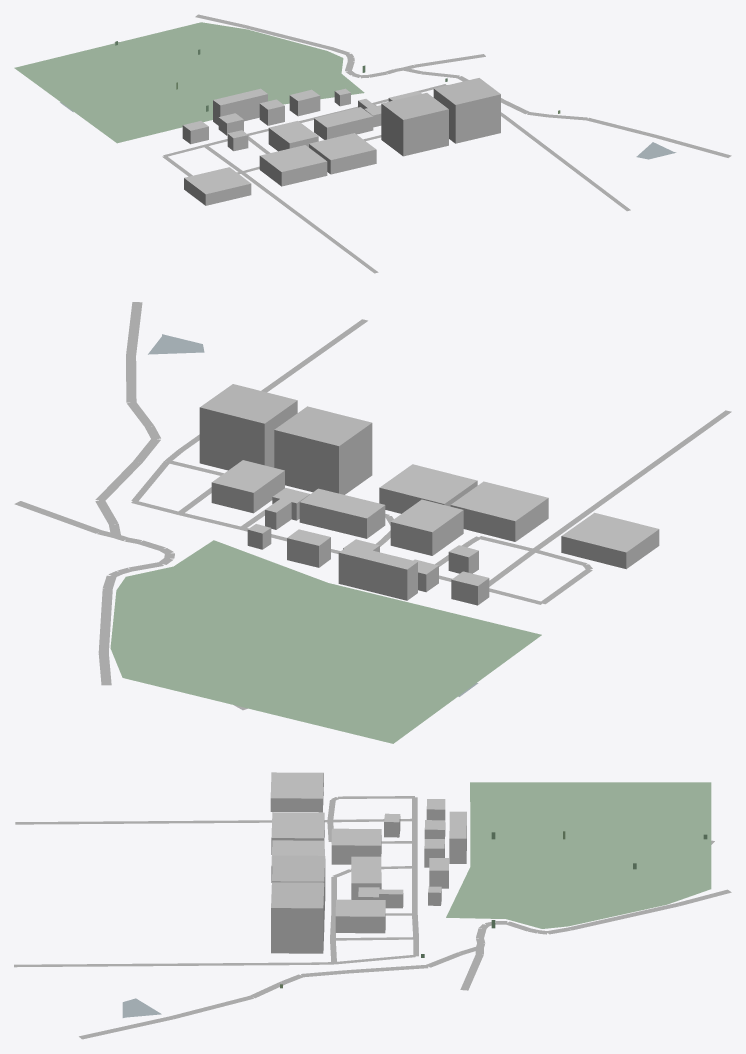
The picture shows the model from 3 angles, top to bottom: view 1: azimuth 30°, elevation 25°; view 2: azimuth 150°, elevation 25°; view 3: azimuth 270°, elevation 25°; orthographic projection. The views are drawn at different scales.
Size of the model in its own units: 516 by 45.78 by 610.
